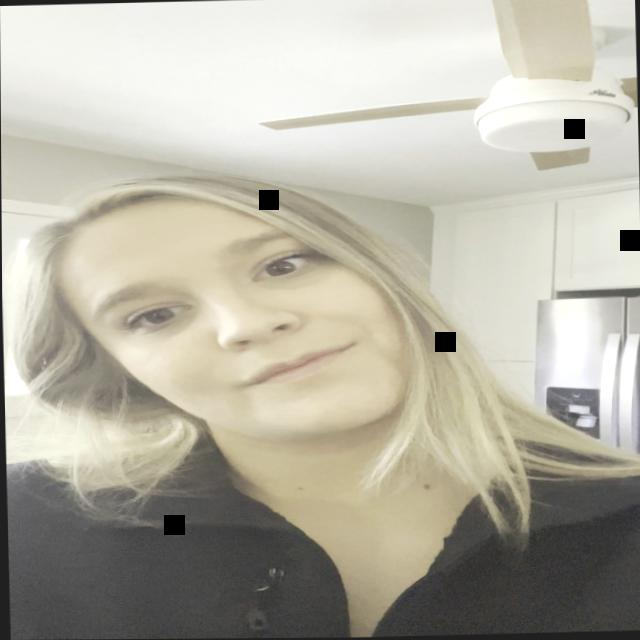NO-Mask: (17, 185, 454, 482)
